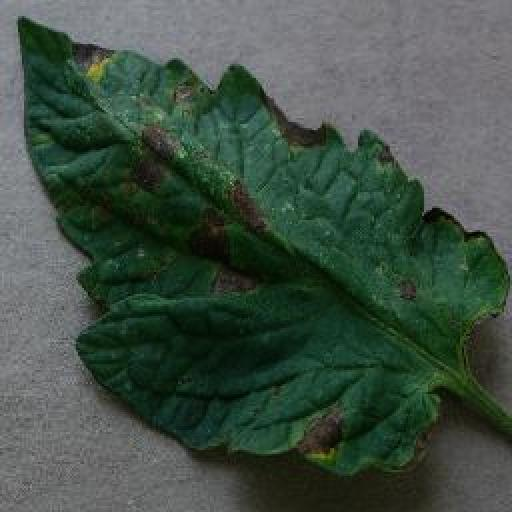disease_tomato: (16, 17, 512, 475)
